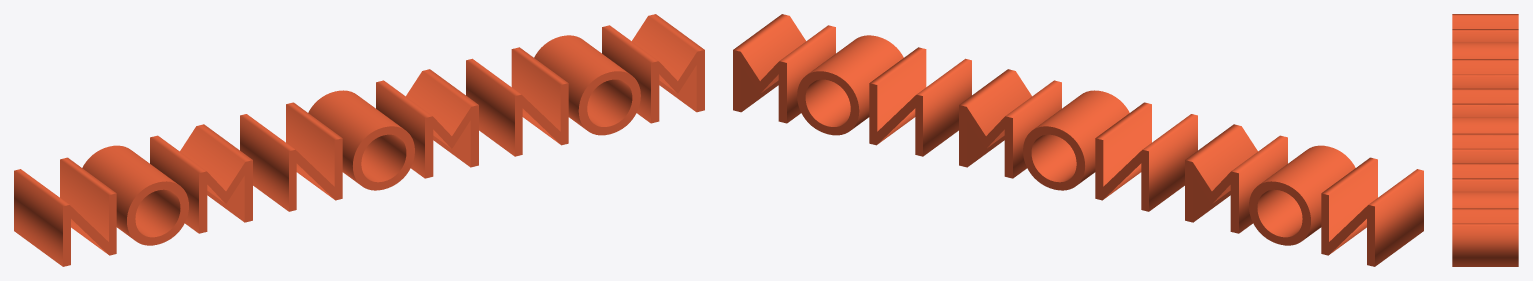
The model's file is Gluttony3.fbx.
The picture shows the model from 3 angles, left to right: view 1: azimuth 30°, elevation 25°; view 2: azimuth 150°, elevation 25°; view 3: azimuth 270°, elevation 25°; orthographic projection. The views are drawn at different scales.
Parts seen in each view (by area): view 1: Text; view 2: Text; view 3: Text.
Boxes of the visible parts, x1=… form: Text: x1=14, y1=14, x2=704, y2=266; Text: x1=733, y1=14, x2=1423, y2=266; Text: x1=1452, y1=14, x2=1518, y2=266.
Bounding box in the file's own units: 757 × 70 × 100.
